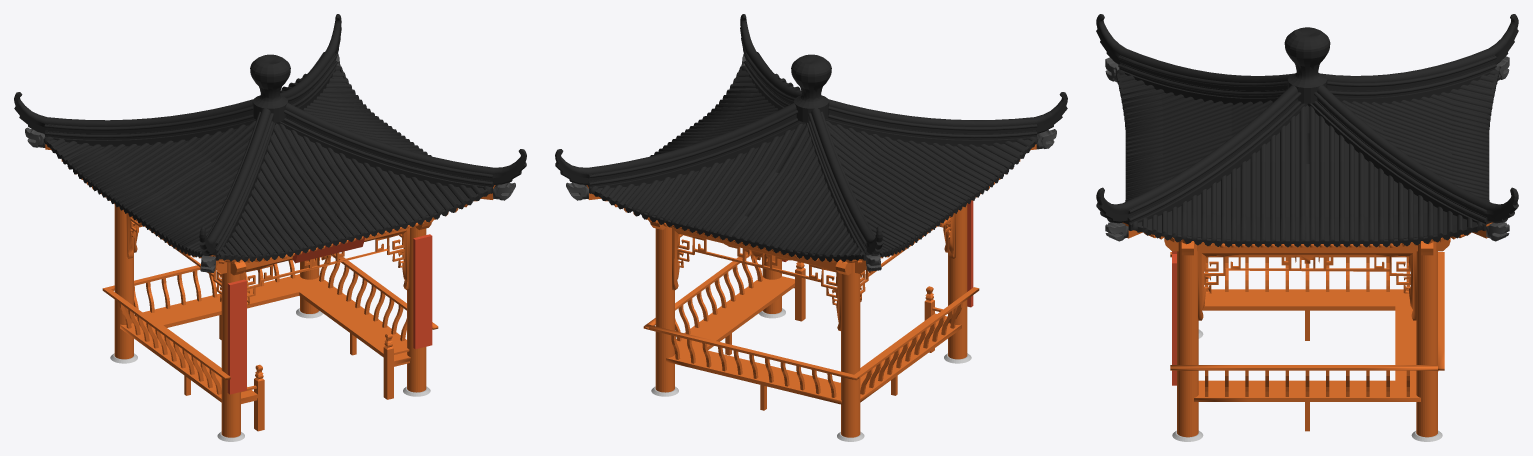
File: chinese-pavilion-web.glb
The picture shows the model from 3 angles, left to right: view 1: azimuth 30°, elevation 25°; view 2: azimuth 150°, elevation 25°; view 3: azimuth 270°, elevation 25°; orthographic projection. The views are drawn at different scales.
Parts seen in each view (by area): view 1: Yueju_CC0_Chinese_Pavilion; view 2: Yueju_CC0_Chinese_Pavilion; view 3: Yueju_CC0_Chinese_Pavilion.
Part boxes in pixels (x1,y1,x2,y2): Yueju_CC0_Chinese_Pavilion: [14, 14, 526, 441]; Yueju_CC0_Chinese_Pavilion: [555, 14, 1067, 441]; Yueju_CC0_Chinese_Pavilion: [1096, 14, 1518, 441].
Bounding box in the file's own units: 13.7 × 12.58 × 13.7.
